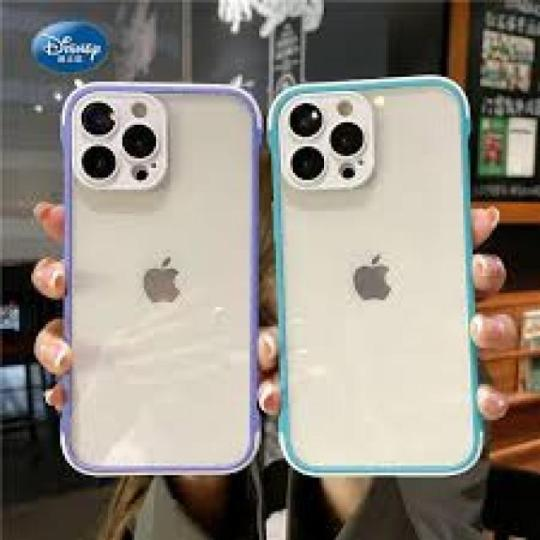phone: (262, 74, 487, 488), (58, 81, 264, 484)
